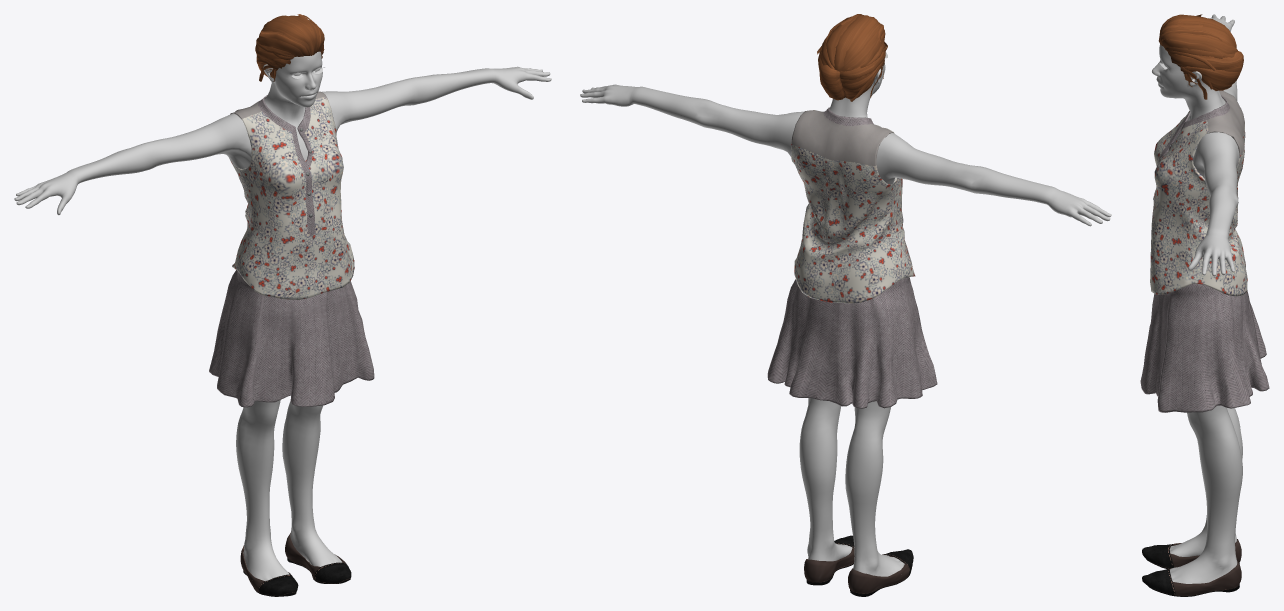
File: Woman-lightskin.obj
3 renders of one model, left to right at view 1: azimuth 30°, elevation 25°; view 2: azimuth 150°, elevation 25°; view 3: azimuth 270°, elevation 25°, orthographic.
Parts seen in each view (by area): view 1: Body, Tops, Bottoms, Hair, Shoes; view 2: Body, Tops, Bottoms, Hair, Shoes; view 3: Body, Bottoms, Tops, Hair, Shoes.
Boxes of the visible parts, box(x1,y1,x2,y2) form: Body: box(14, 51, 551, 581); Tops: box(230, 91, 354, 299); Bottoms: box(209, 270, 374, 407); Hair: box(255, 14, 324, 81); Shoes: box(240, 533, 351, 596); Body: box(580, 63, 1111, 576); Tops: box(791, 107, 915, 303); Bottoms: box(767, 277, 937, 408); Hair: box(817, 14, 887, 101); Shoes: box(804, 535, 913, 596); Body: box(1152, 14, 1242, 583); Bottoms: box(1140, 283, 1269, 412); Tops: box(1150, 90, 1247, 296); Hair: box(1158, 14, 1243, 99); Shoes: box(1142, 539, 1241, 596).
Size of the model in its own units: 179 by 180 by 37.61.
